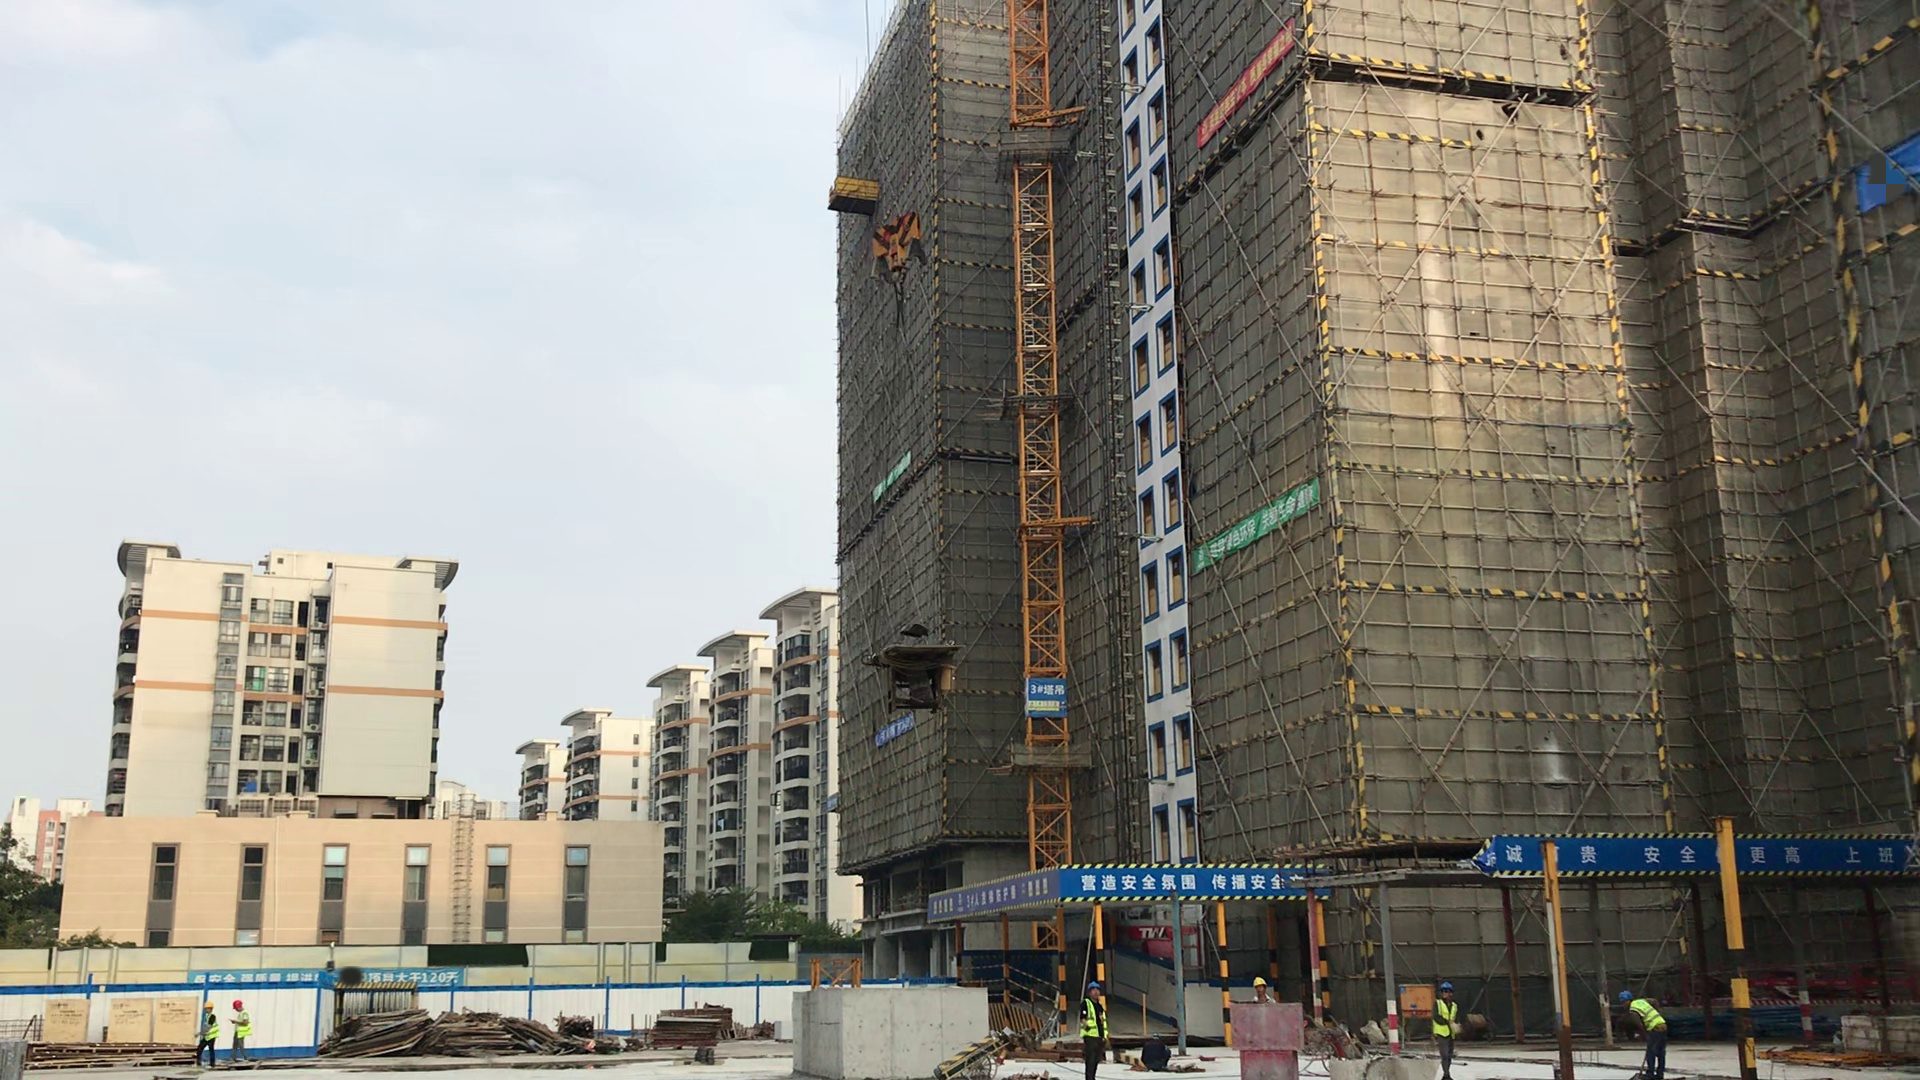ebox: (1394, 982, 1434, 1017)
helmet: (1617, 986, 1633, 1002), (1083, 978, 1101, 990), (1250, 976, 1267, 987), (1438, 983, 1455, 990), (201, 1001, 214, 1010), (231, 1000, 243, 1009)
hook: (865, 209, 935, 290)
hopper: (1324, 1053, 1440, 1080)
person: (1601, 987, 1700, 1080), (1068, 976, 1130, 1080), (1423, 981, 1475, 1075), (222, 996, 261, 1064), (188, 1001, 222, 1072), (1246, 972, 1276, 1002)
slogan: (1487, 820, 1920, 875), (1075, 855, 1318, 898), (1181, 494, 1319, 571), (1196, 31, 1290, 137), (922, 867, 1064, 920), (185, 965, 459, 993), (873, 449, 911, 504), (874, 716, 916, 750)
vest: (1082, 1000, 1108, 1040), (1631, 1001, 1665, 1030), (1432, 1000, 1456, 1039), (201, 1017, 217, 1040), (233, 1014, 250, 1036)
